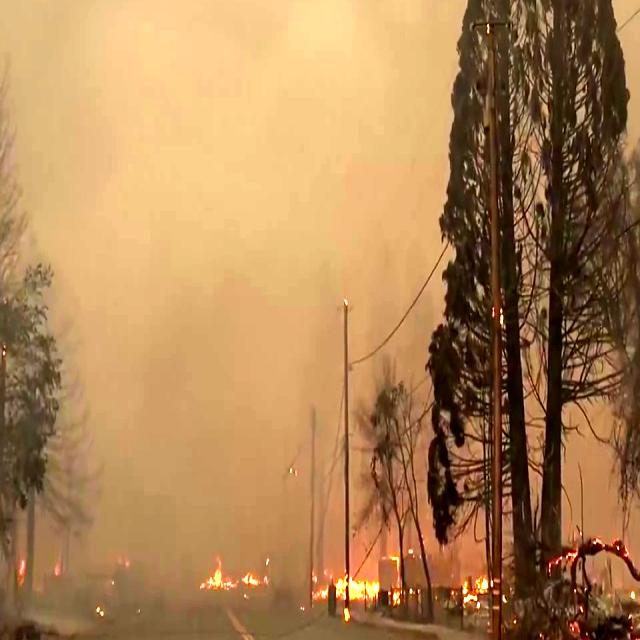smoke: (50, 0, 244, 348)
